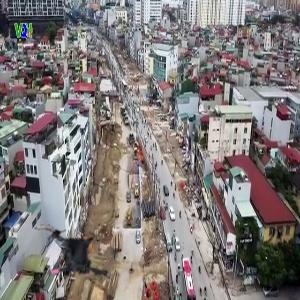drone: (30, 210, 120, 300)
